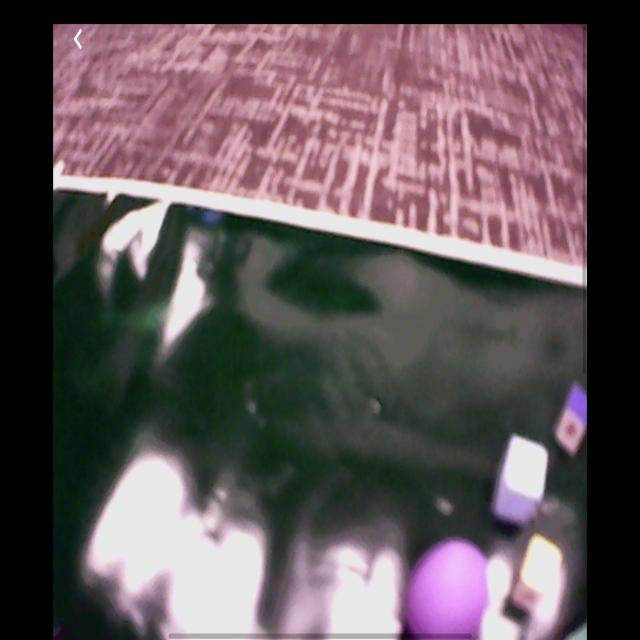ball: (401, 537, 498, 640)
